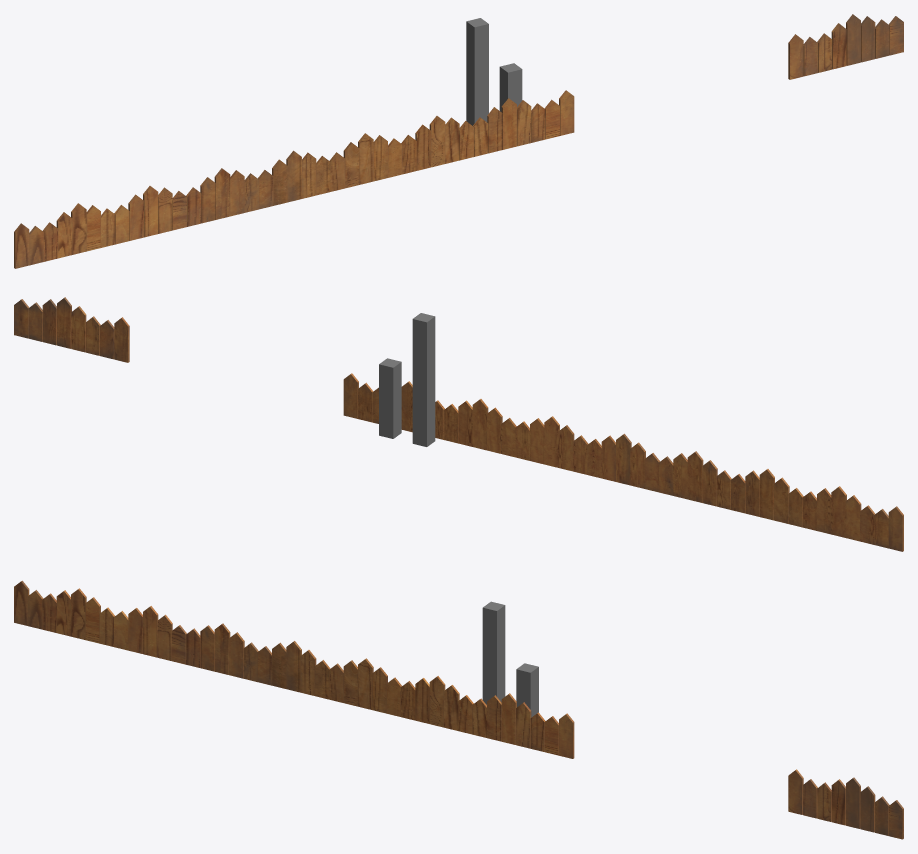
Rendered from Wall Sizes.fbx.
3 renders of one model, top to bottom at view 1: azimuth 30°, elevation 25°; view 2: azimuth 150°, elevation 25°; view 3: azimuth 330°, elevation 25°, orthographic.
Visible parts, largest first — view 1: pCube6, Cube_max, Cube_min; view 2: pCube6, Cube_max, Cube_min; view 3: pCube6, Cube_max, Cube_min.
Boxes of the visible parts, <box> form: pCube6: <box>14,14,903,268</box>; Cube_max: <box>466,18,488,125</box>; Cube_min: <box>499,63,522,111</box>; pCube6: <box>14,297,903,551</box>; Cube_max: <box>412,313,435,446</box>; Cube_min: <box>379,358,401,438</box>; pCube6: <box>14,580,903,839</box>; Cube_max: <box>482,601,505,704</box>; Cube_min: <box>516,663,538,717</box>.
Size of the model in its own units: 6196 by 832 by 158.
Materials: 2 (1 with a texture image).
